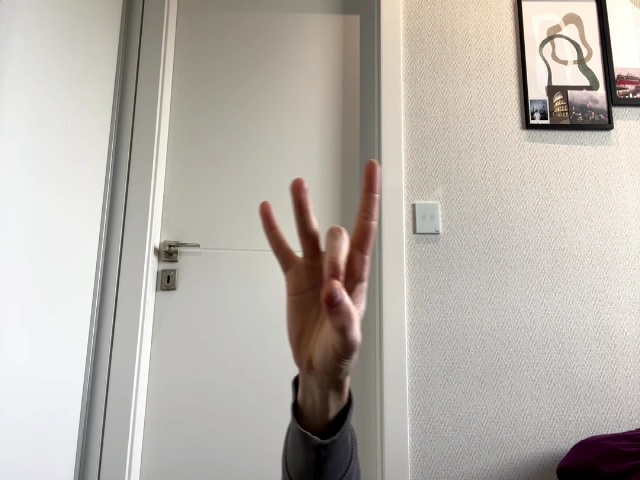G: (257, 159, 380, 373)
